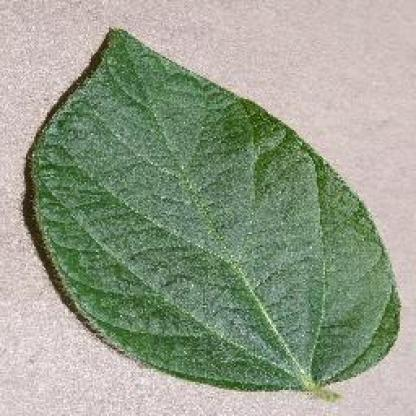soy: (22, 20, 406, 407)
